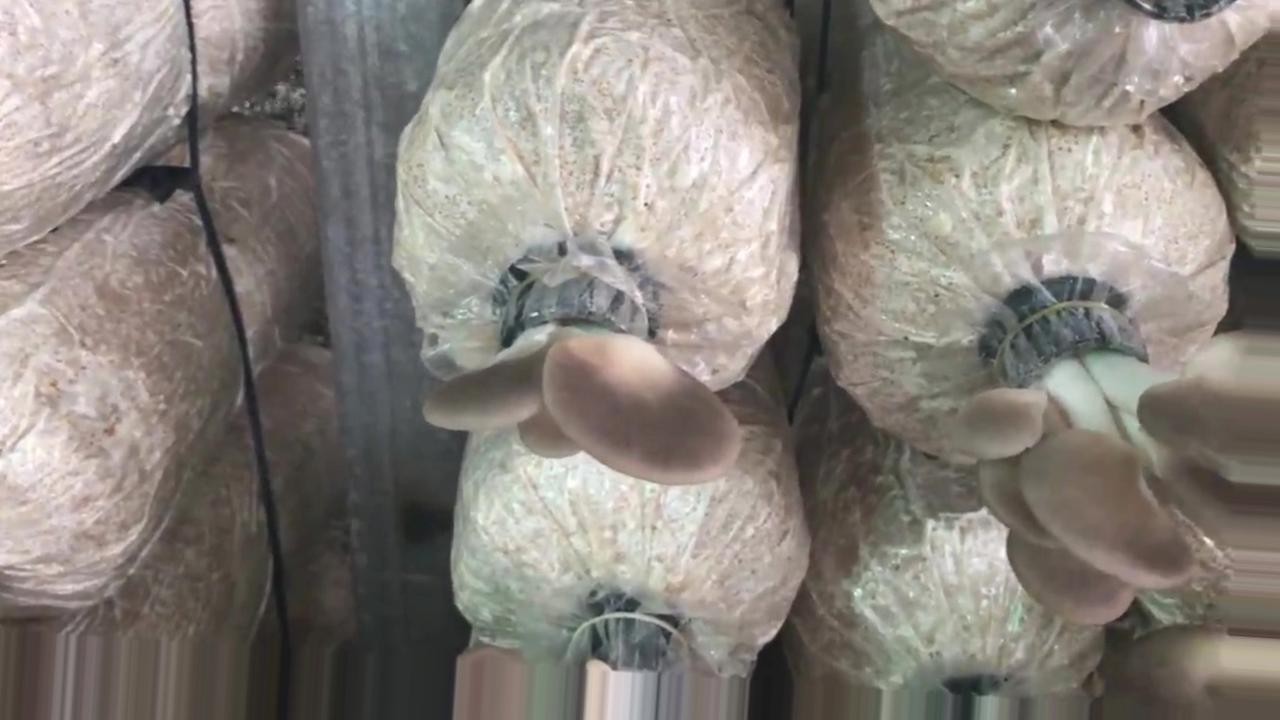nam: (953, 296, 1280, 630), (420, 246, 743, 492)
